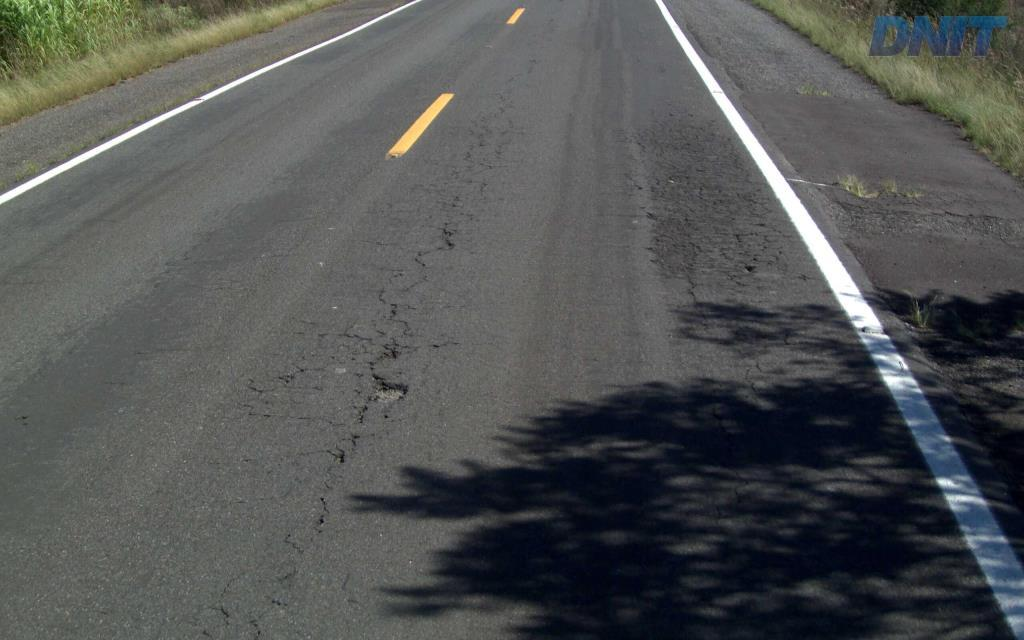crack: (671, 239, 703, 273)
pothole: (361, 375, 409, 415)
